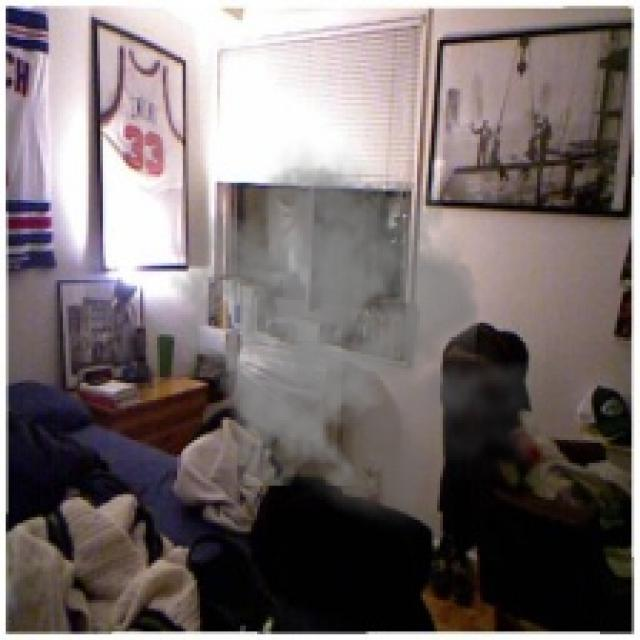smoke: (168, 137, 588, 534)
